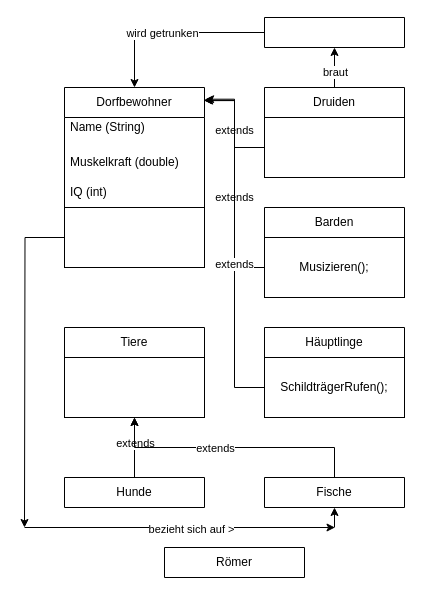
The diagram is 422 pixels wide and 595 high, and some of its shapes have lost their labels. Each missing label, with the centre of its shape:
"LautGeben();" belongs at pixel 134 387.
"Zaubertrank" belongs at pixel 334 32.
"ZaubertrankBrauen();" belongs at pixel 334 147.
"ZaubertrankTrinken(); FischAufheben(); FischWerfen();" belongs at pixel 134 237.
